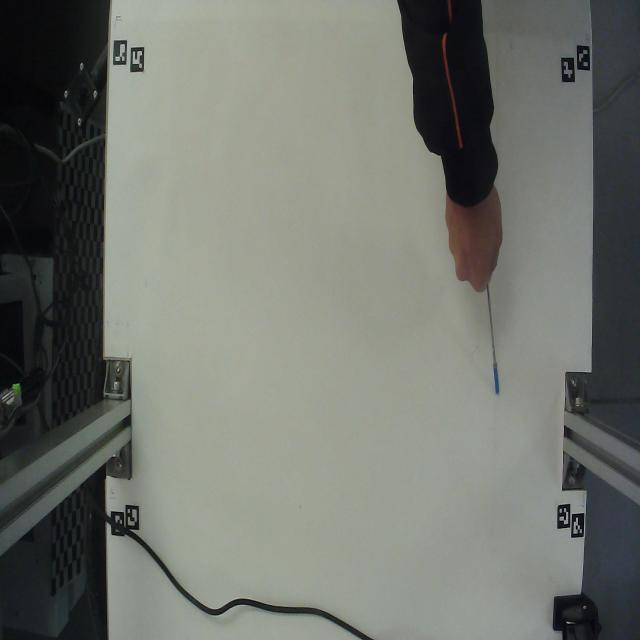Pres: (471, 281, 518, 417)
